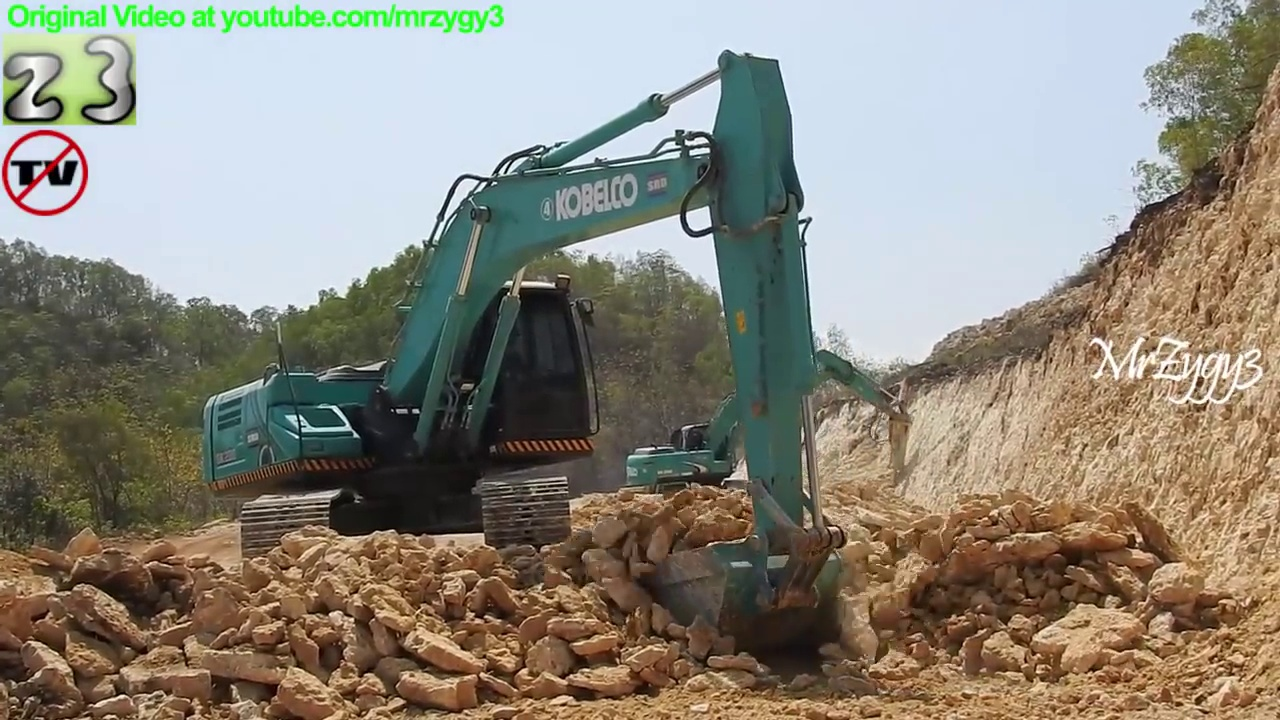excavator: (193, 45, 853, 671), (622, 343, 917, 506)
